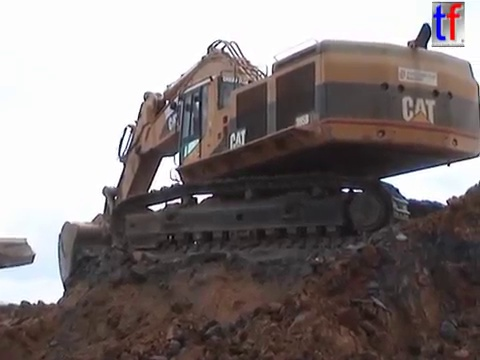excavator: (53, 19, 480, 299)
truck: (1, 234, 38, 273)
